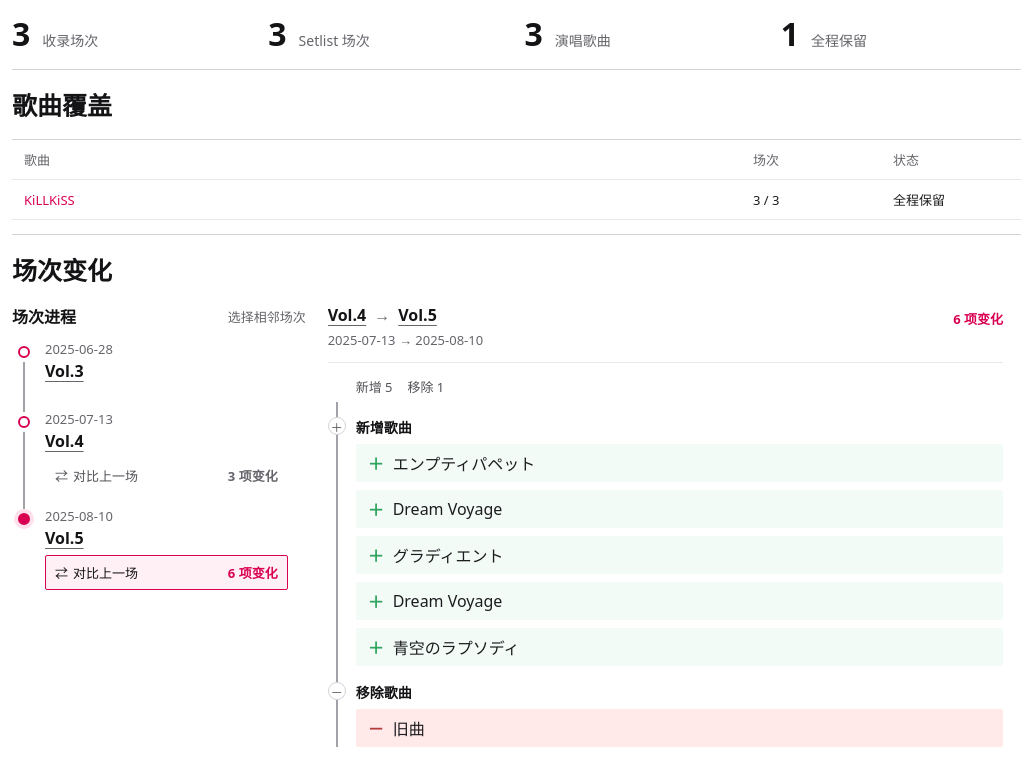
Scenario: TourStatisticsPanel › 重复歌曲在场次切换后保持正确的新增行数
Expected: the number of elements named "新增 " is 5, [356,444,1003,482]; [356,490,1003,528]; [356,536,1003,574]; [356,582,1003,620]; [356,628,1003,666]
Step 1. Click the button "⇄ 对比上一场 3 项变化" → (166, 476), box [45,458,288,493]
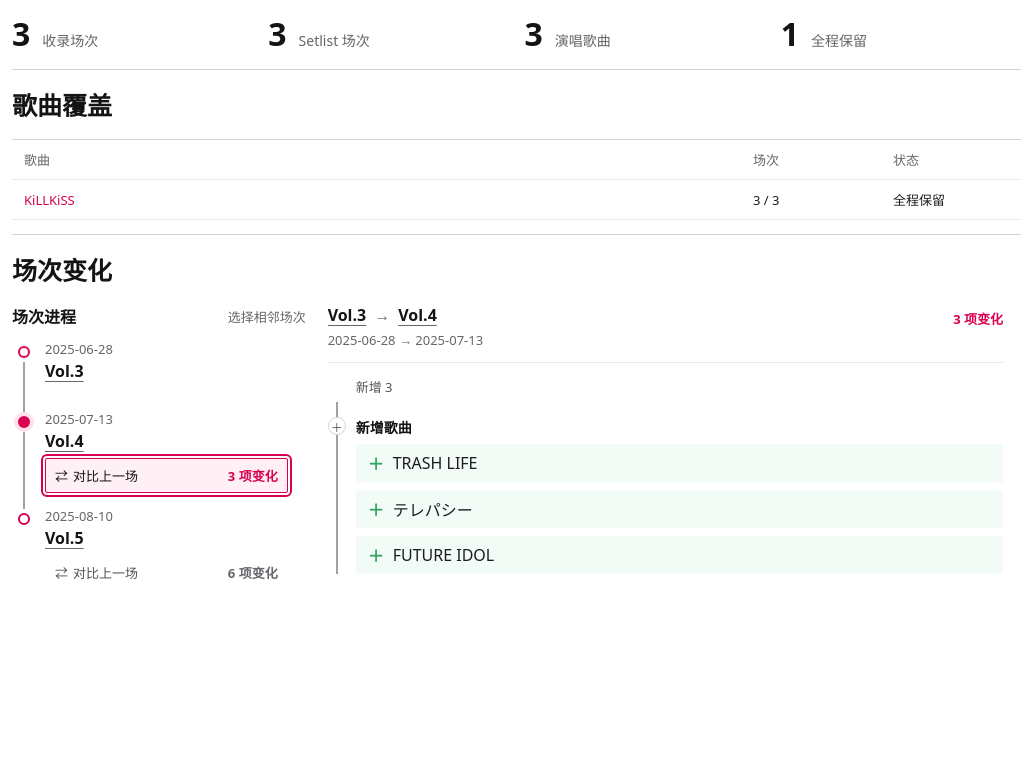
Expected: the number of elements named "新增 " is 3, [356,444,1003,482]; [356,490,1003,528]; [356,536,1003,574]
Step 2. Click the button "⇄ 对比上一场 6 项变化" → (166, 572), box [45,555,288,590]
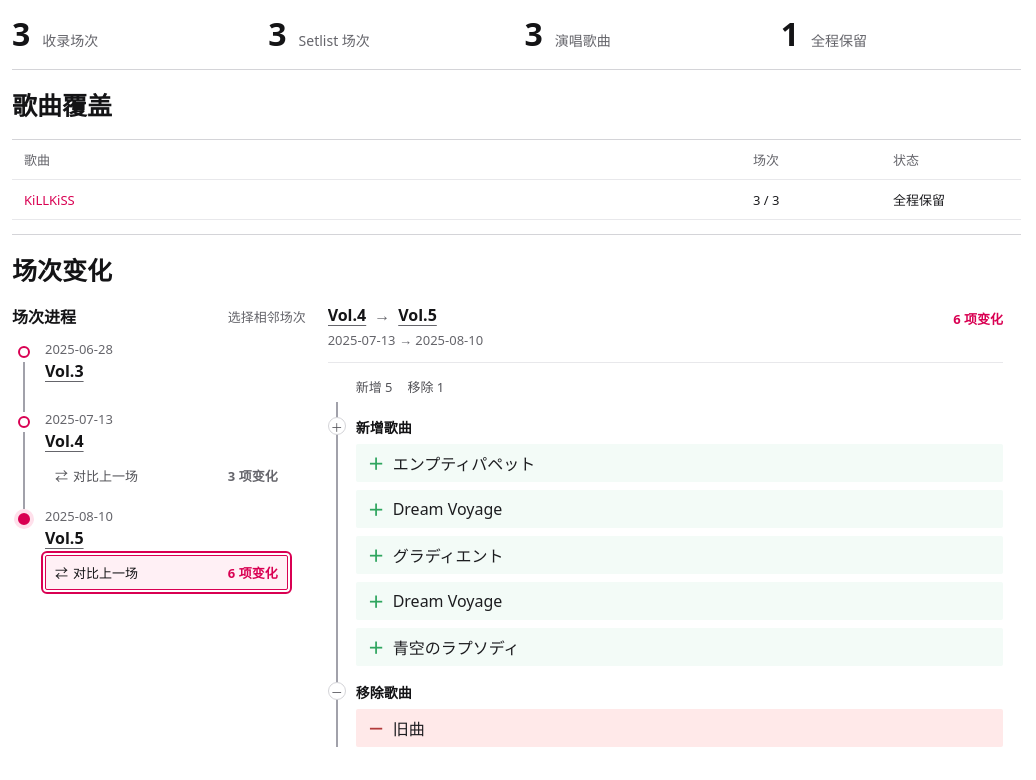
Expected: the number of elements named "新增 " is 5, [356,444,1003,482]; [356,490,1003,528]; [356,536,1003,574]; [356,582,1003,620]; [356,628,1003,666]
Step 3. Click the button "⇄ 对比上一场 3 项变化" → (166, 476), box [45,458,288,493]
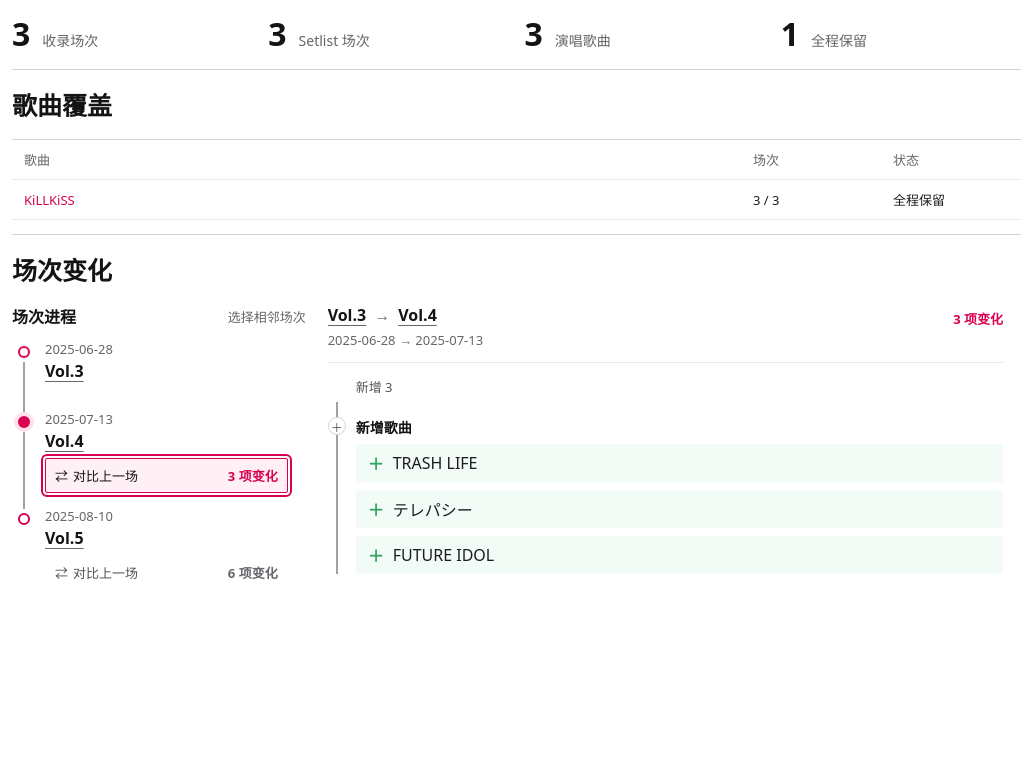
Expected: the number of elements named "新增 " is 3, [356,444,1003,482]; [356,490,1003,528]; [356,536,1003,574]
